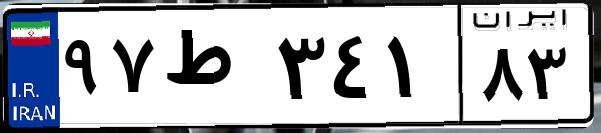1: (385, 28, 445, 110)
3: (270, 28, 330, 110), (525, 38, 570, 115)
4: (330, 28, 385, 110)
7: (110, 28, 158, 98)
8: (475, 38, 525, 113)
9: (57, 26, 110, 100)
ط: (158, 20, 270, 120)
